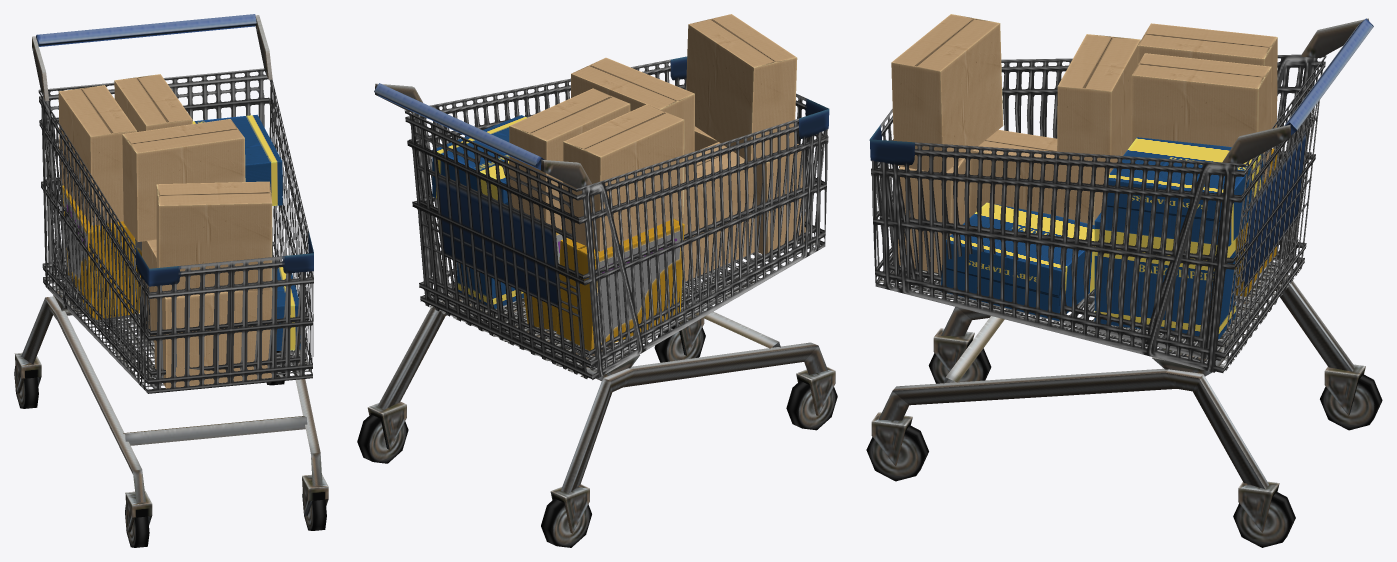
The model's file is obst_shoppincart_anim.fbx.
3 renders of one model, left to right at view 1: azimuth 30°, elevation 25°; view 2: azimuth 150°, elevation 25°; view 3: azimuth 270°, elevation 25°, orthographic. The views are drawn at different scales.
Parts seen in each view (by area): view 1: obst_shoppincart_animated, ShoppingBoxes; view 2: obst_shoppincart_animated, ShoppingBoxes; view 3: obst_shoppincart_animated, ShoppingBoxes.
Boxes of the visible parts, left/top/right/bottom form: obst_shoppincart_animated: left=14, top=14, right=328, bottom=547; ShoppingBoxes: left=58, top=74, right=300, bottom=388; obst_shoppincart_animated: left=357, top=56, right=837, bottom=547; ShoppingBoxes: left=432, top=14, right=805, bottom=350; obst_shoppincart_animated: left=866, top=18, right=1382, bottom=547; ShoppingBoxes: left=891, top=14, right=1277, bottom=339.
Bounding box in the file's own units: 95.39 × 113 × 126.
